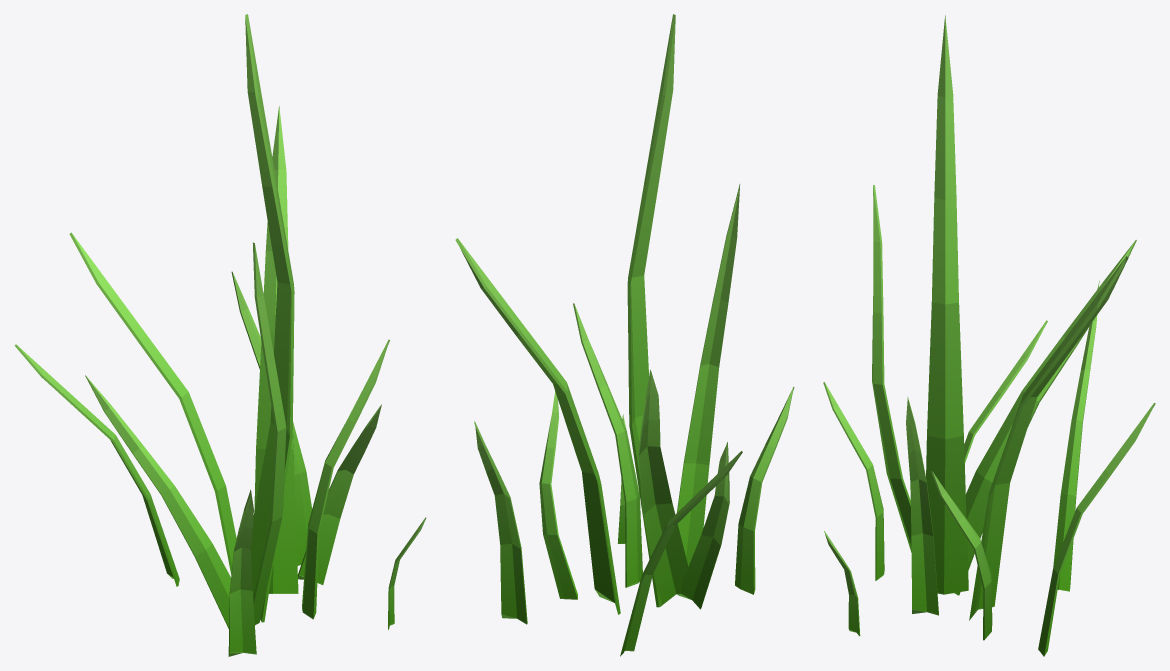
File: Grass.fbx
3 renders of one model, left to right at view 1: azimuth 30°, elevation 25°; view 2: azimuth 150°, elevation 25°; view 3: azimuth 270°, elevation 25°, orthographic. The views are drawn at different scales.
Parts seen in each view (by area): view 1: Grass.008; view 2: Grass.008; view 3: Grass.008.
Boxes of the visible parts, x1,y1,x2,y2 form: Grass.008: [14, 14, 426, 656]; Grass.008: [455, 14, 794, 656]; Grass.008: [823, 15, 1155, 656].
Size of the model in its own units: 91.8 by 192 by 98.97.
